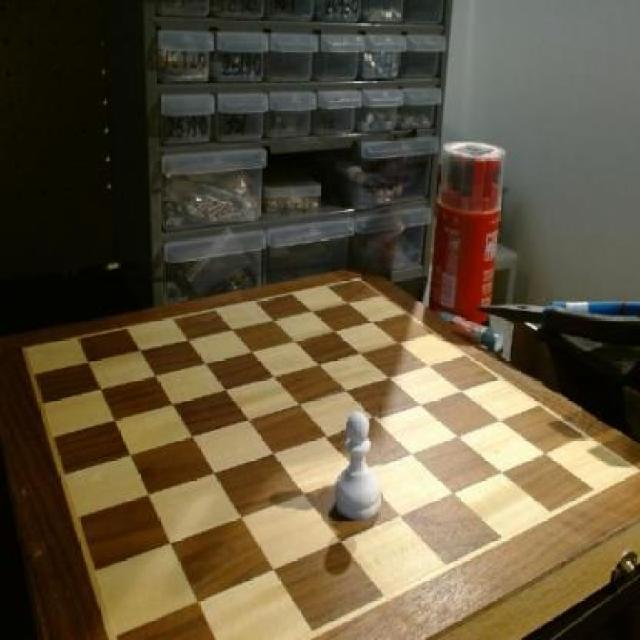white-knight: (328, 409, 383, 523)
